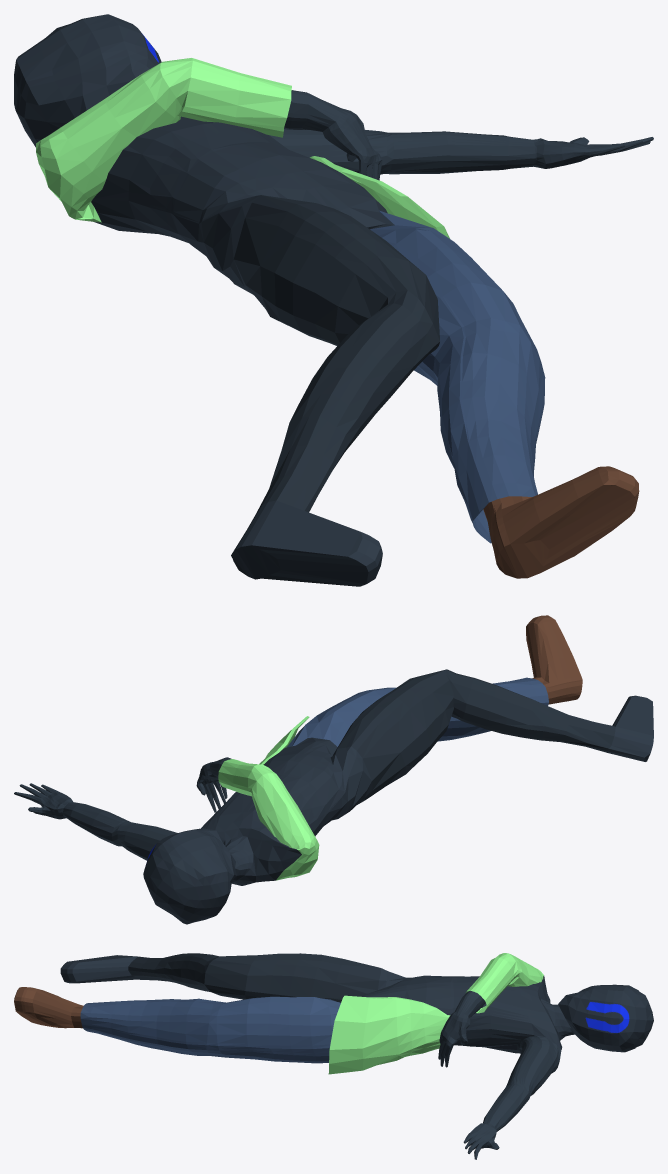
File: Mar_Die_000019.obj
3 renders of one model, top to bottom at view 1: azimuth 30°, elevation 25°; view 2: azimuth 150°, elevation 25°; view 3: azimuth 270°, elevation 25°, orthographic. The views are drawn at different scales.
Visible parts, largest first — view 1: Cube.000_Cube.001; view 2: Cube.000_Cube.001; view 3: Cube.000_Cube.001.
Part boxes in pixels (x1,y1,x2,y2): Cube.000_Cube.001: [14, 14, 653, 586]; Cube.000_Cube.001: [14, 615, 653, 924]; Cube.000_Cube.001: [14, 953, 653, 1159].
Bounding box in the file's own units: 2.82 × 0.6644 × 3.97.
